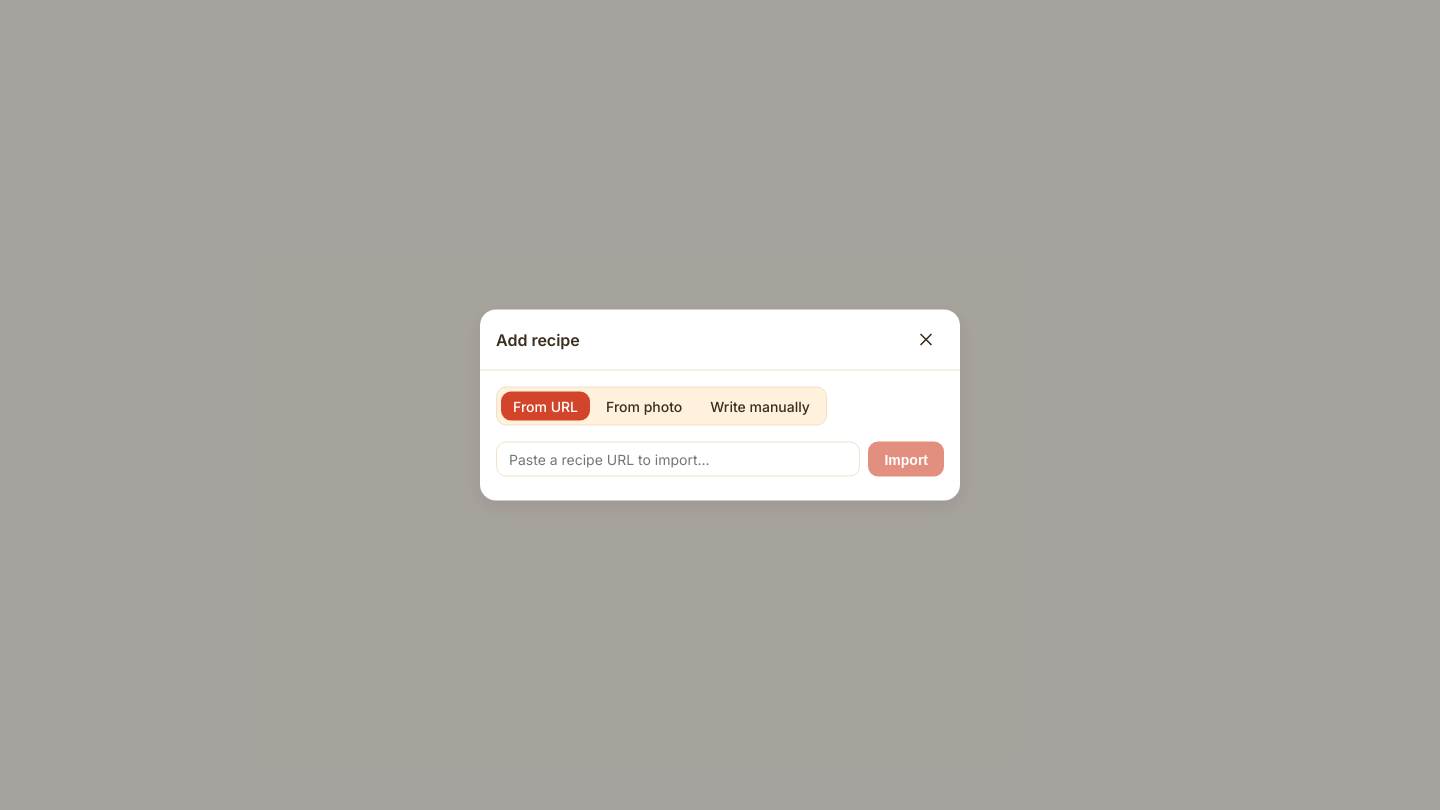
Scenario: AddRecipeSheet › disables input and shows spinner while importing
Step 1. Type "https://example.com/recipe" into the field with test id "import-url-input" → (678, 459), box left=496, top=442, right=860, bottom=476
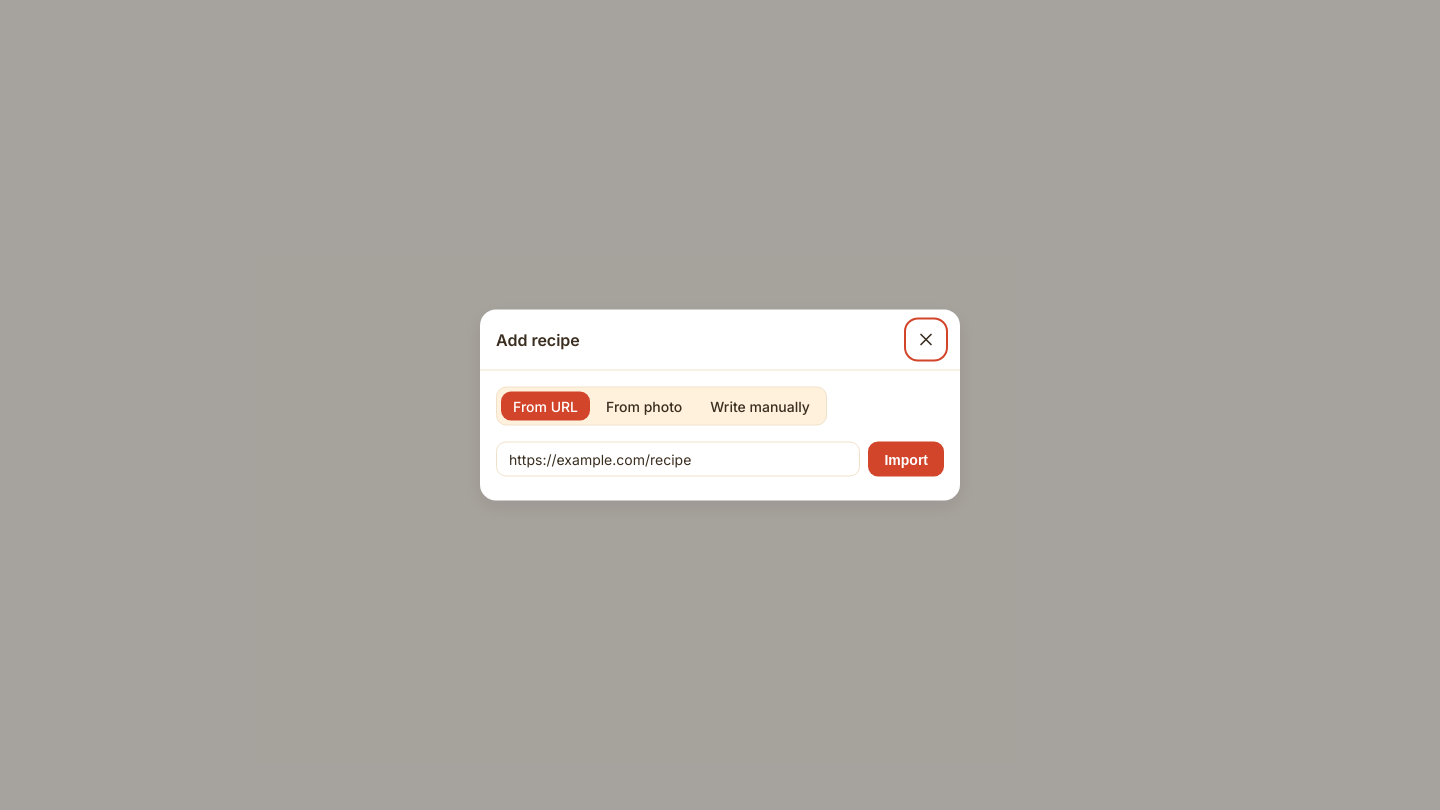
Step 2. Click the button with test id "import-submit-btn" → (906, 459), box left=868, top=442, right=944, bottom=476
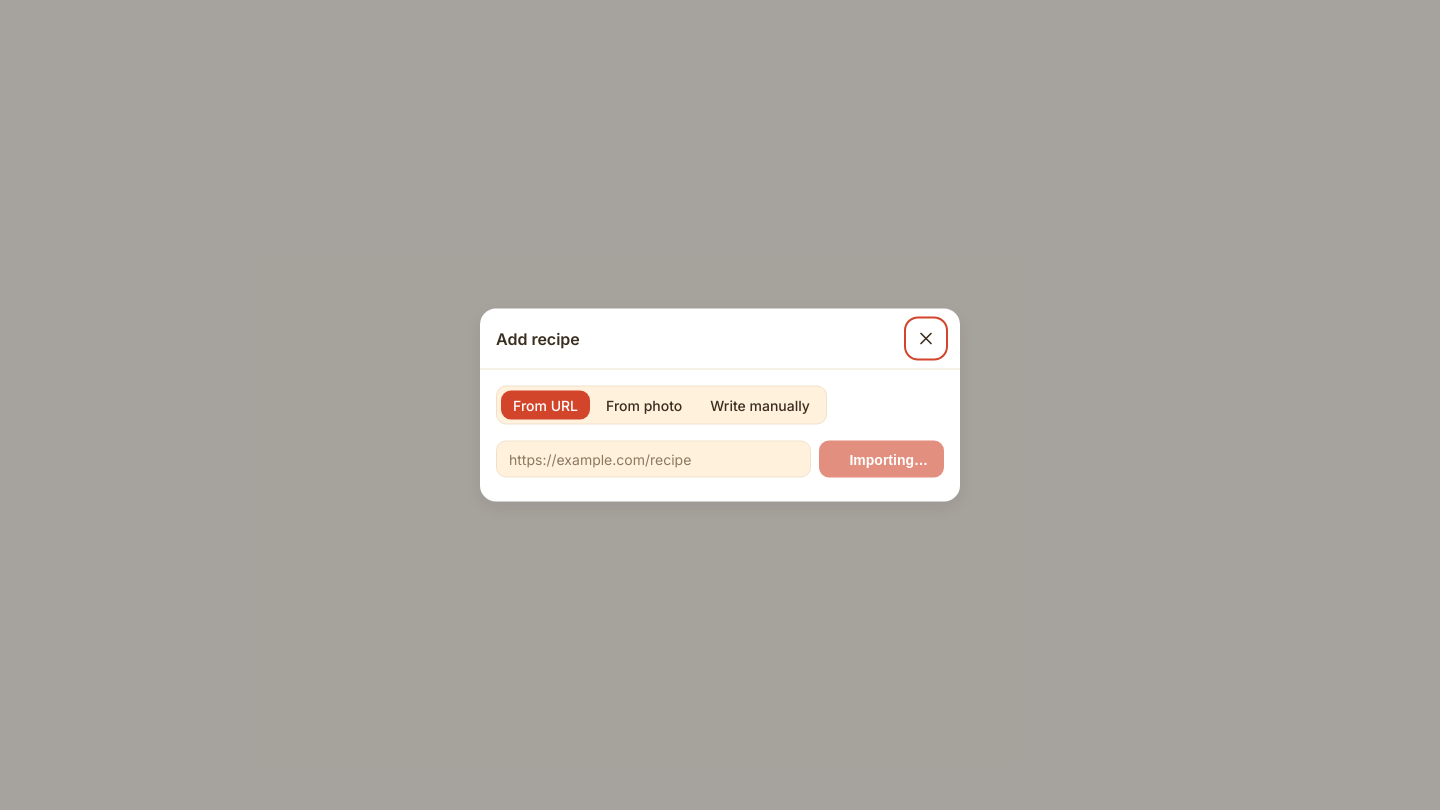
Now the field with test id "import-url-input" is disabled, box left=496, top=440, right=812, bottom=478
Now the button with test id "import-submit-btn" is disabled, box left=820, top=440, right=944, bottom=478
